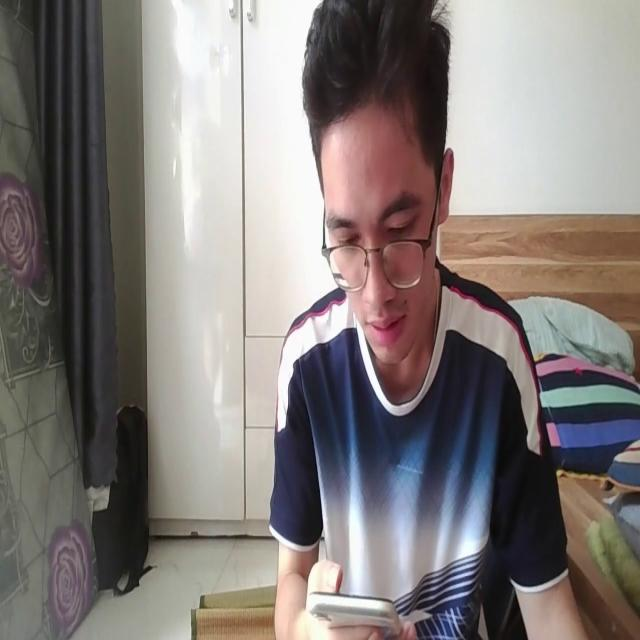phone: (304, 577, 406, 638)
student: (269, 0, 594, 640)
